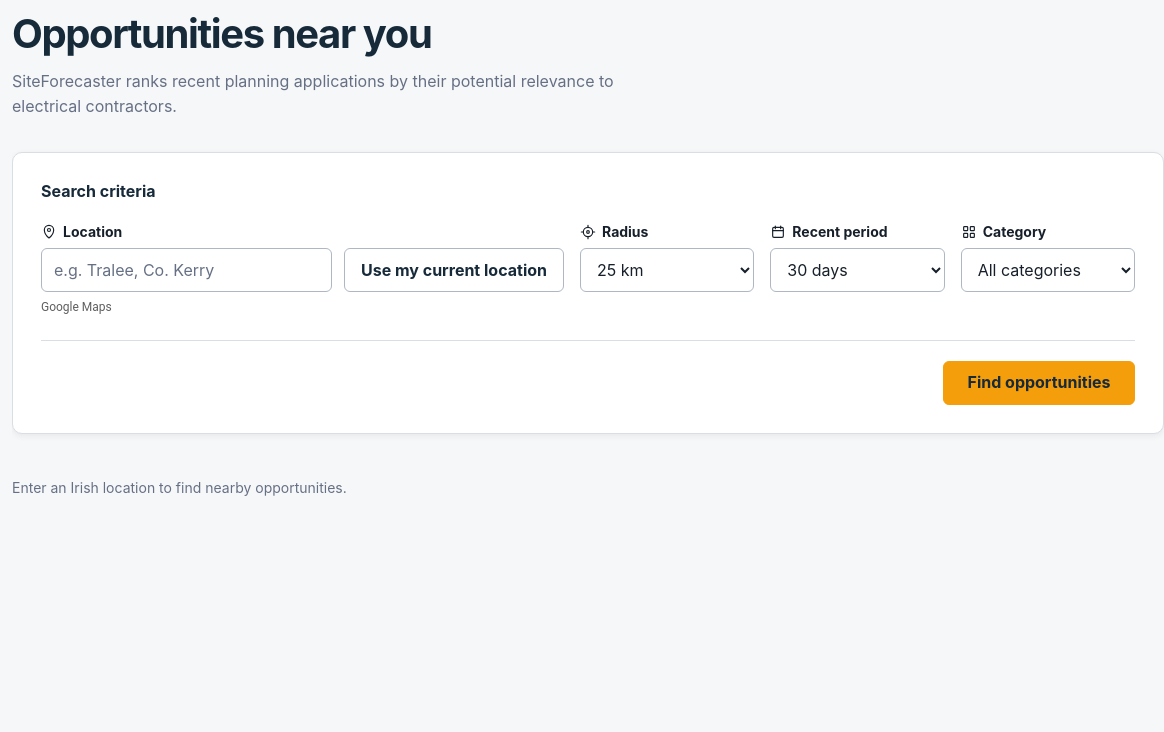
Test case: OpportunitiesPage › stores browser coordinates and searches with filters selected afterward
Click the button "Use my current location" at [454, 270], box [344,248,564,292]
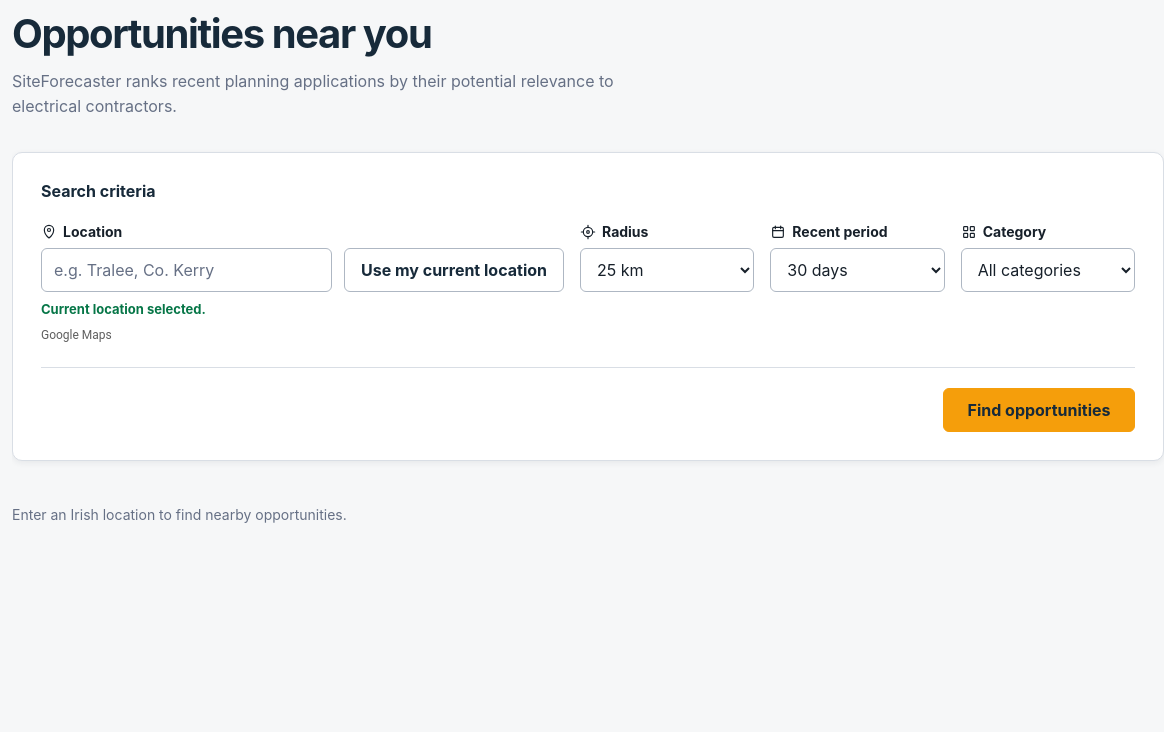
Now the message shows "Current location selected", box [41,301,206,317]
Select "50 km" in the dropdown labelled "Radius" at [667, 270], box [580,248,754,292]
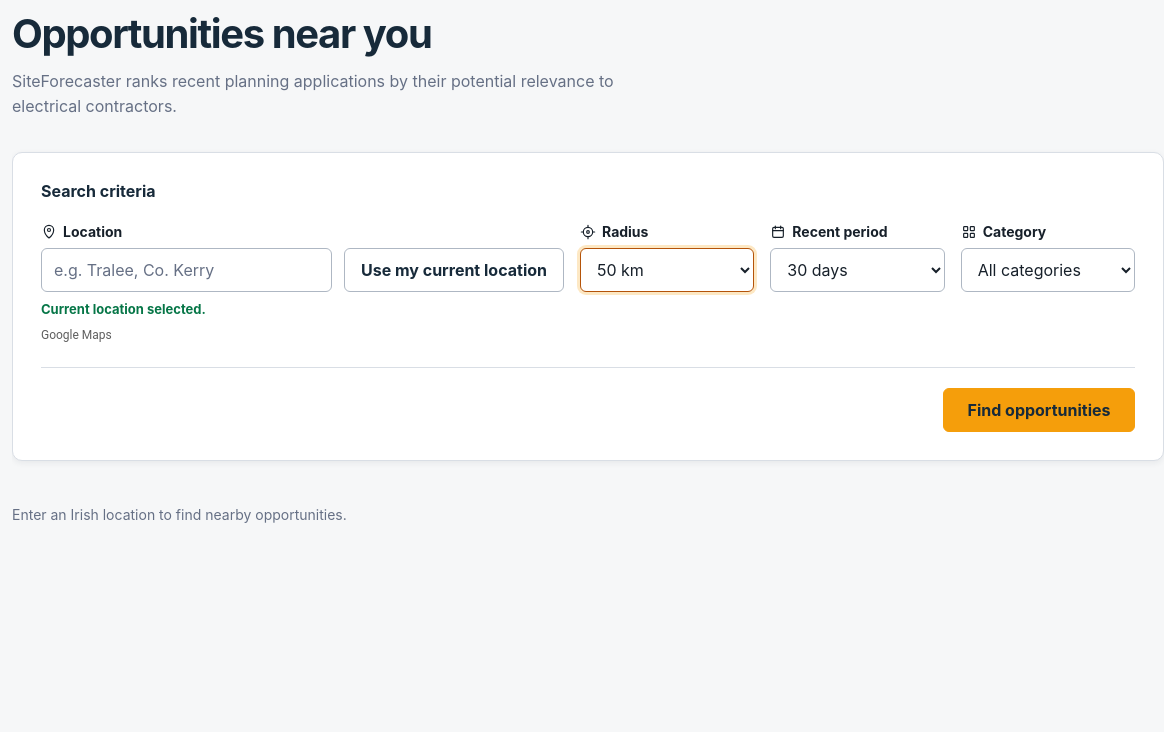
Select "60 days" in the dropdown labelled "Recent period" at [857, 270], box [770,248,945,292]
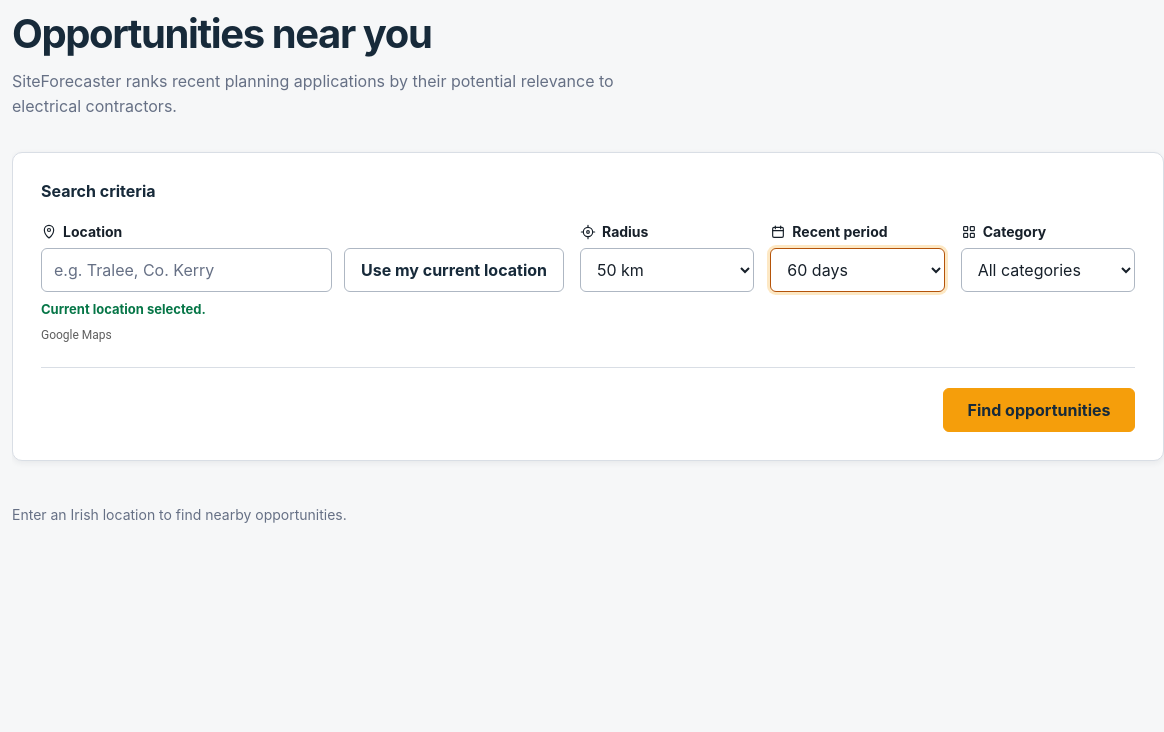
Select "Industrial" in the dropdown labelled "Category" at [1048, 270], box [961,248,1135,292]
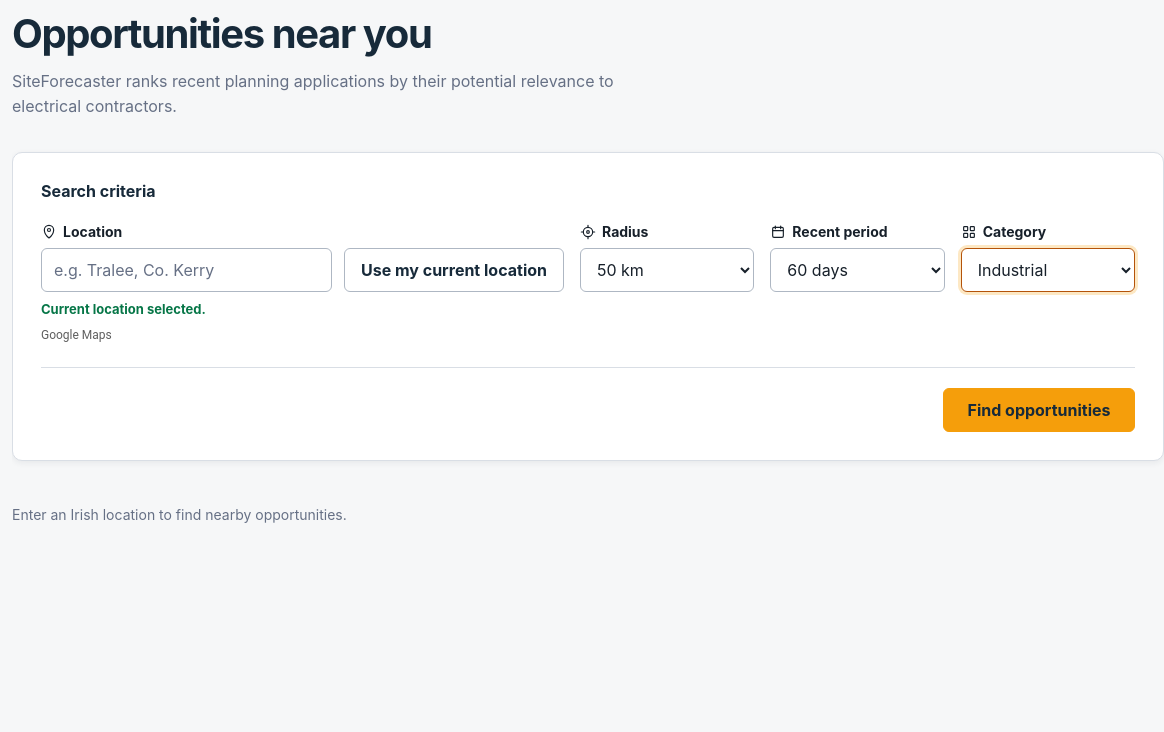
Click the button "Find opportunities" at [1039, 410], box [943,388,1135,432]
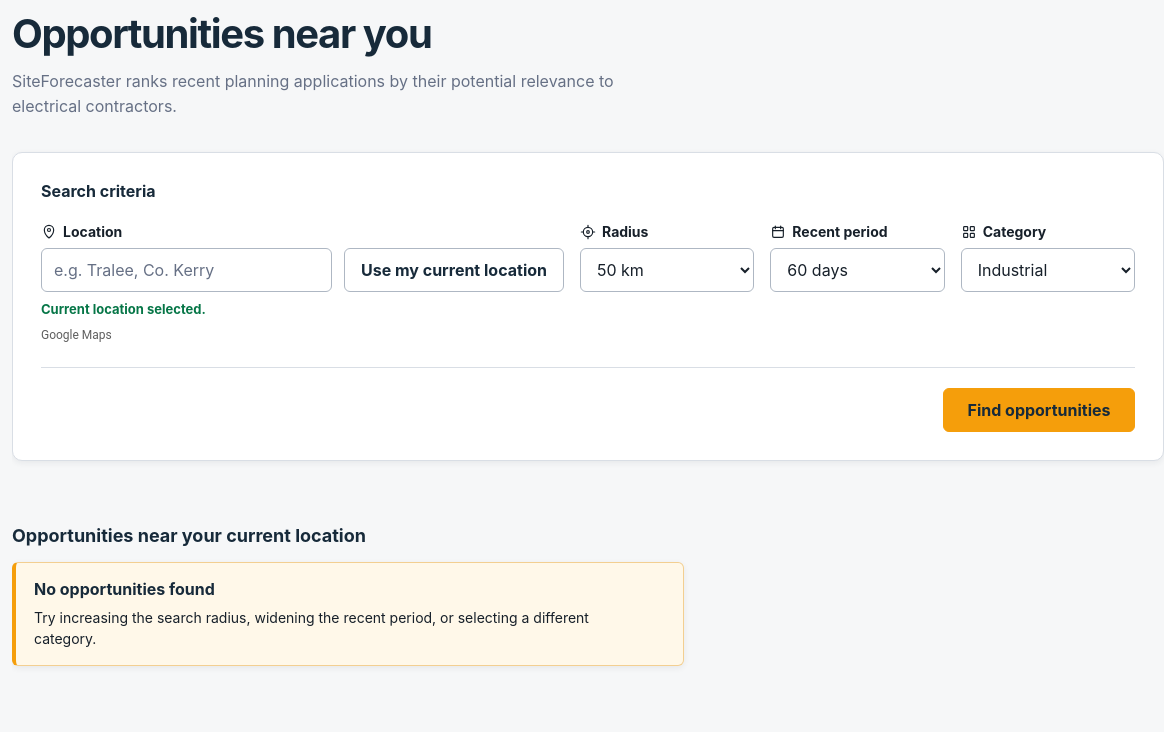
Now the heading "Opportunities near your current location" is shown, box [12,525,366,546]
Now the heading "No opportunities found" is shown, box [34,579,215,599]
